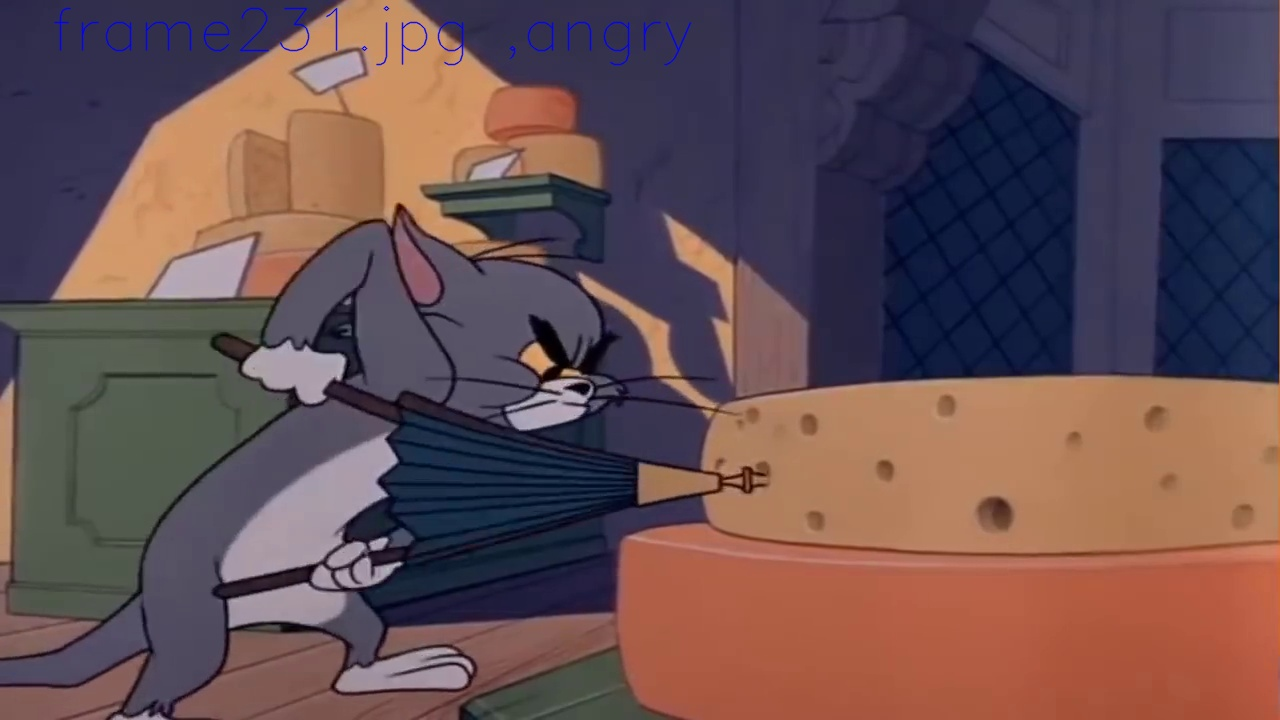angry: (515, 314, 618, 425)
